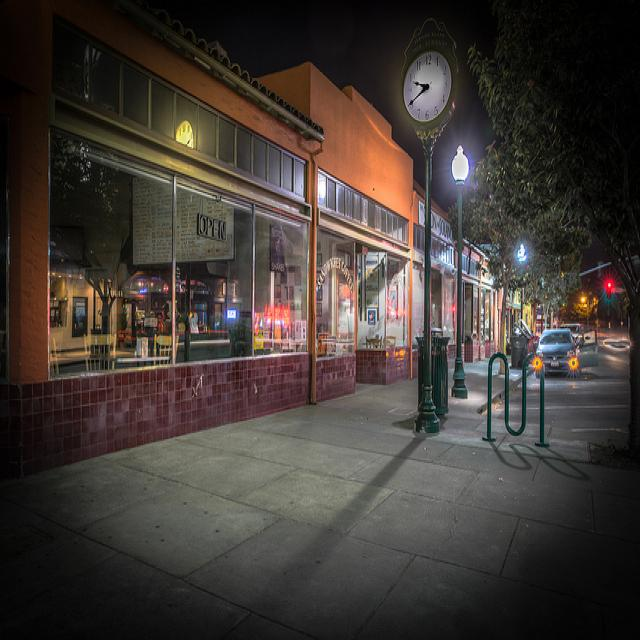Vehicle: (535, 326, 574, 378)
